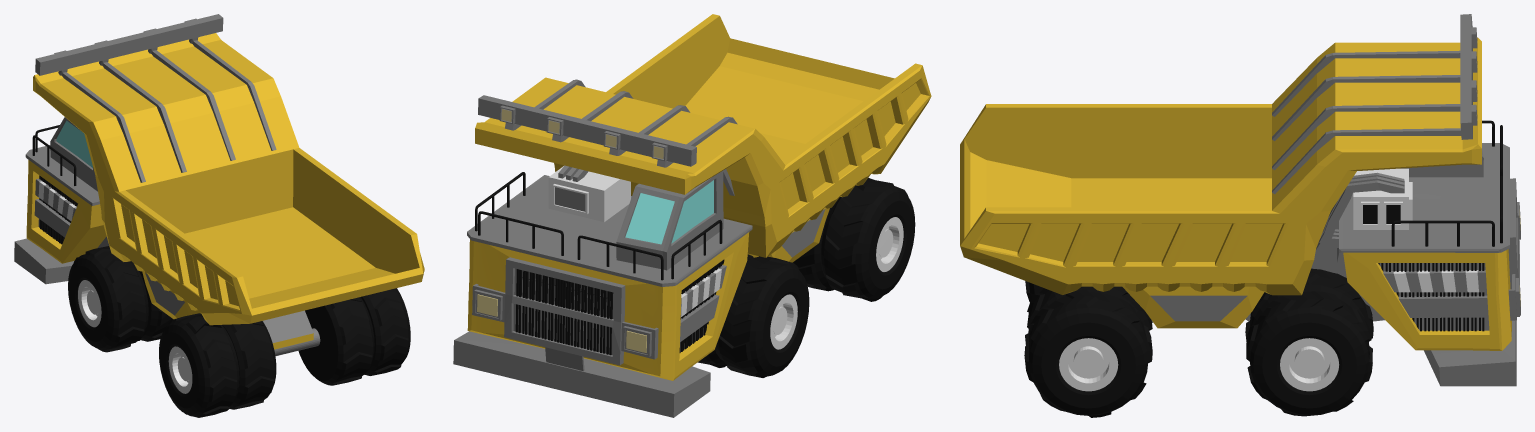
File: CaminhaoMineracao.fbx
3 renders of one model, left to right at view 1: azimuth 30°, elevation 25°; view 2: azimuth 150°, elevation 25°; view 3: azimuth 270°, elevation 25°, orthographic. The views are drawn at different scales.
Visible parts, largest first — view 1: Caminhao; view 2: Caminhao; view 3: Caminhao.
Part boxes in pixels (bbox=[...]): Caminhao: bbox=[14, 14, 424, 417]; Caminhao: bbox=[453, 14, 931, 417]; Caminhao: bbox=[960, 14, 1520, 417].
Size of the model in its own units: 1141 by 1243 by 2161.
